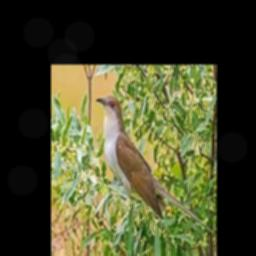Cuckoo: (95, 95, 213, 233)
